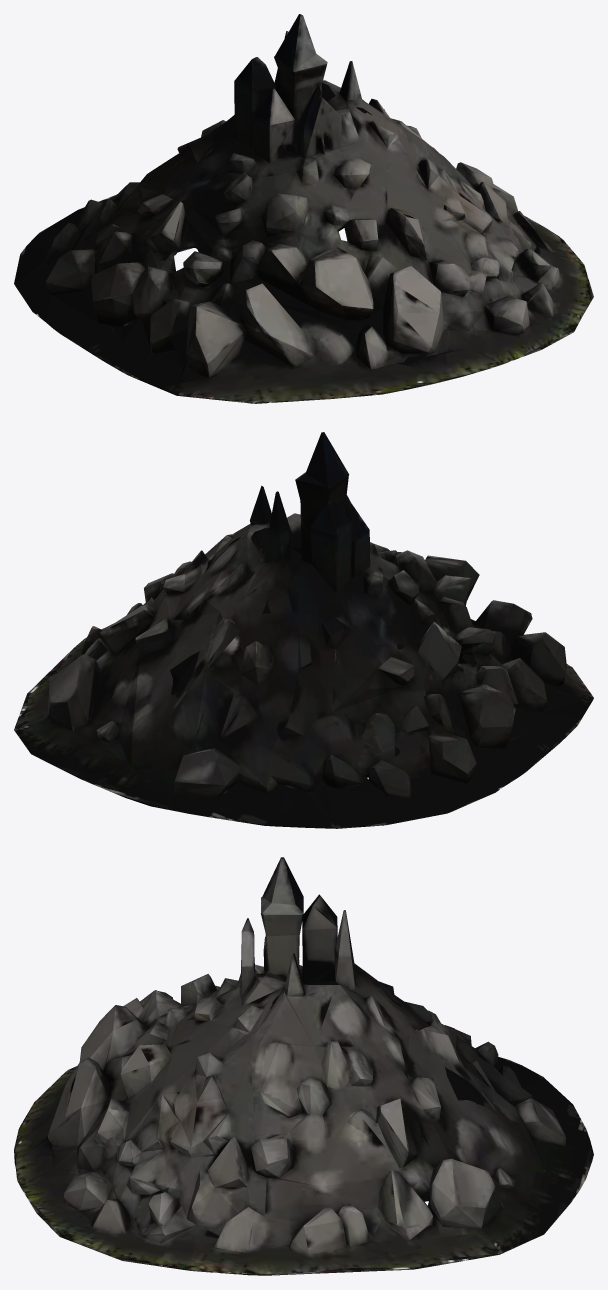
File: blacksmith_coal_pile_01.glb
The picture shows the model from 3 angles, top to bottom: view 1: azimuth 30°, elevation 25°; view 2: azimuth 150°, elevation 25°; view 3: azimuth 270°, elevation 25°; orthographic projection. The views are drawn at different scales.
Visible parts, largest first — view 1: geometry_0; view 2: geometry_0; view 3: geometry_0.
Boxes of the visible parts, x1,y1,x2,y2 form: geometry_0: (14, 14, 593, 403); geometry_0: (14, 432, 593, 828); geometry_0: (14, 857, 593, 1275).
Bounding box in the file's own units: 0.9867 × 0.5588 × 0.9984.
Materials: 1 (1 with a texture image).
